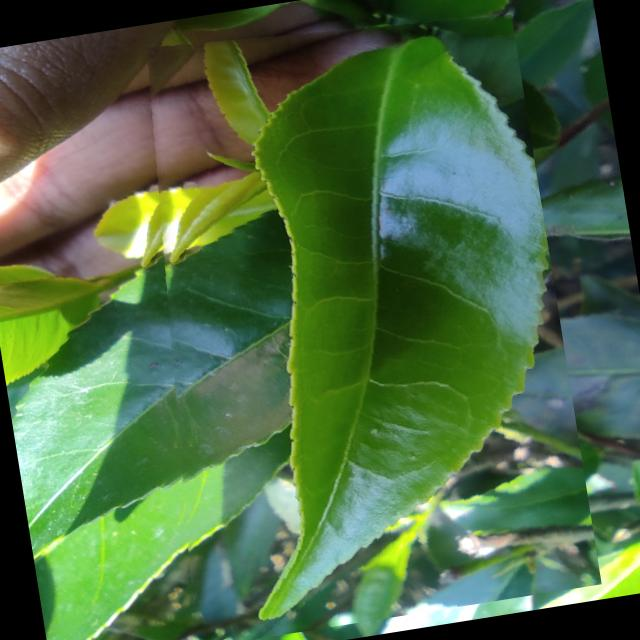Category C(4-7 days): (102, 0, 601, 640)
